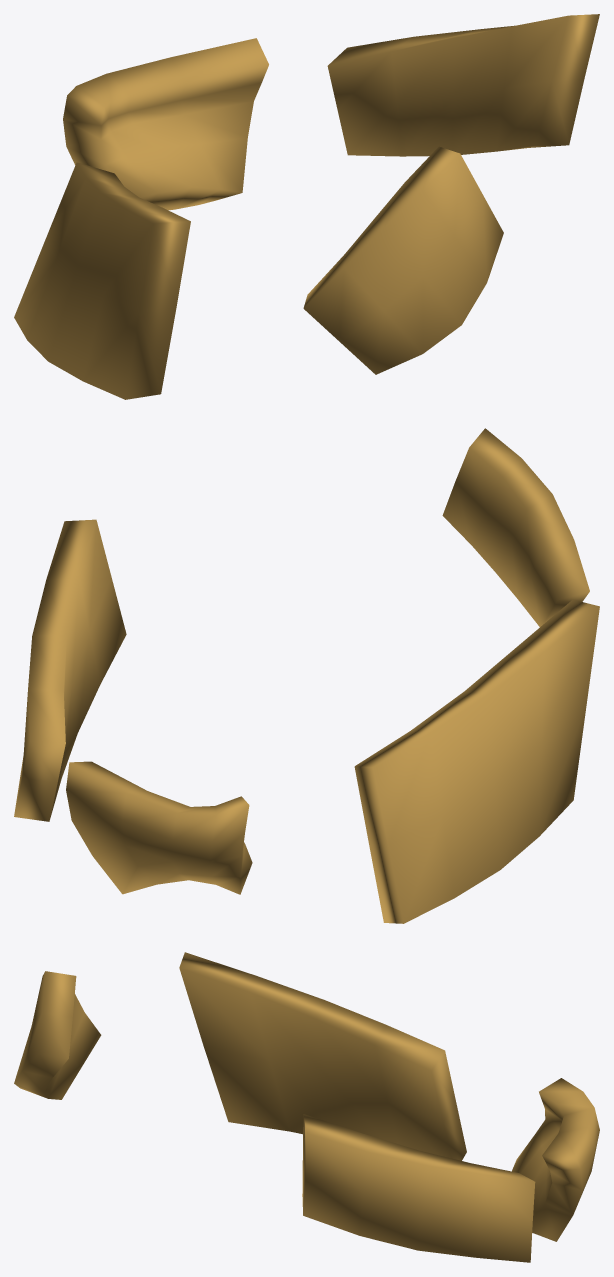
3 renders of one model, top to bottom at view 1: azimuth 30°, elevation 25°; view 2: azimuth 150°, elevation 25°; view 3: azimuth 270°, elevation 25°, orthographic. The views are drawn at different scales.
Visible parts, largest first — view 1: 右侧豌豆三角骨韧带; view 2: 右侧豌豆三角骨韧带; view 3: 右侧豌豆三角骨韧带.
Boxes of the visible parts, x1=… form: 右侧豌豆三角骨韧带: x1=14, y1=14, x2=599, y2=399; 右侧豌豆三角骨韧带: x1=14, y1=428, x2=599, y2=923; 右侧豌豆三角骨韧带: x1=14, y1=952, x2=599, y2=1262.
Size of the model in its own units: 0.0111 by 0.00665 by 0.0137.
